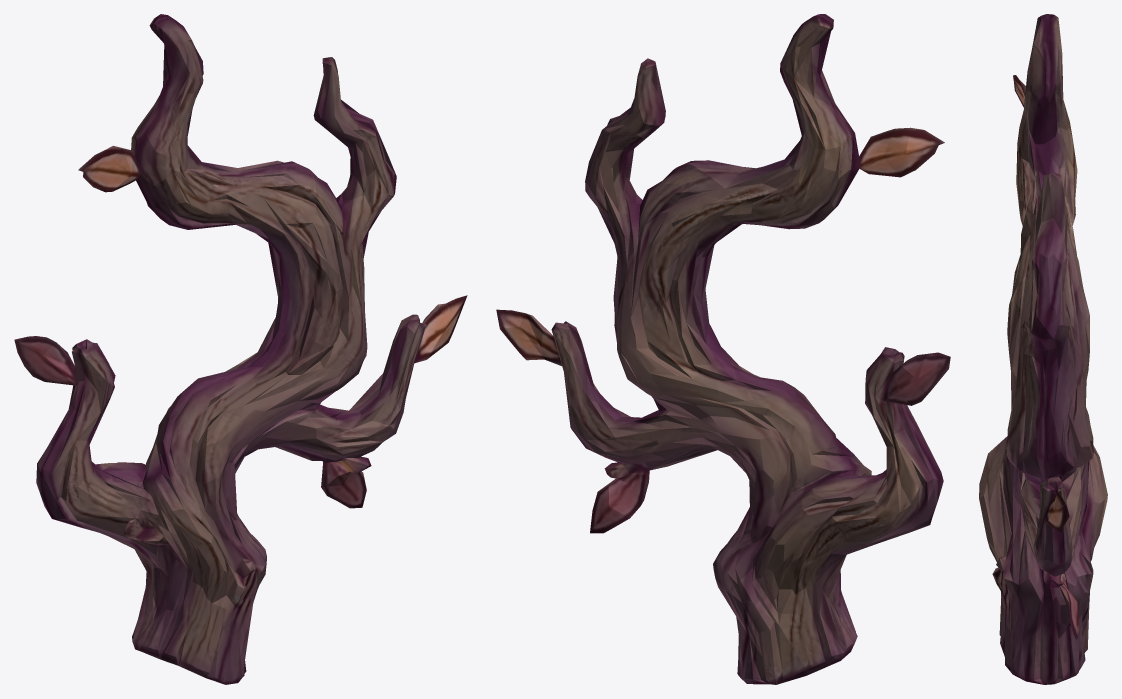
File: fennal-bois-2.glb
3 views of the same model, side by side, from view 1: azimuth 30°, elevation 25°; view 2: azimuth 150°, elevation 25°; view 3: azimuth 270°, elevation 25° (orthographic). The views are drawn at different scales.
Visible parts, largest first — view 1: geometry_0; view 2: geometry_0; view 3: geometry_0.
Boxes of the visible parts, x1,y1,x2,y2 form: geometry_0: (14, 14, 467, 684); geometry_0: (496, 14, 950, 684); geometry_0: (979, 14, 1107, 684).
Size of the model in its own units: 1.34 by 1.9 by 0.3487.
1 material, 1 textured.
